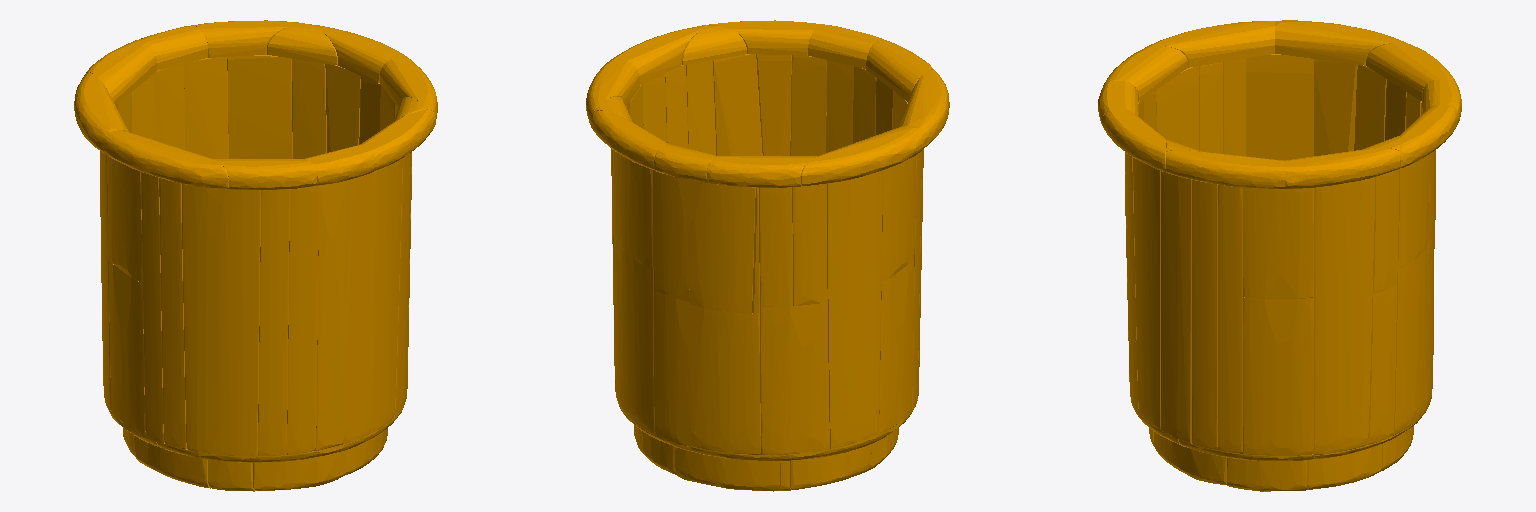
URDF robot description (065-b_cups):
<?xml version="1.0" encoding="UTF-8"?>
<robot name="065-b_cups">
	<link name="base">
		<collision>
			<geometry>
				<mesh filename="..\vhacd\065-b_cups_vhacd.obj" scale="1.0 1.0 1.0"/>
			</geometry>
			<origin xyz="0 0 0"/>
			<contact_coefficients mu="0.24" />
		</collision>
		<visual>
			<geometry>
				<mesh filename="..\vhacd\065-b_cups_vhacd.obj" scale="1.0 1.0 1.0"/>
			</geometry>
			<origin xyz="0 0 0"/>
		</visual>
		<inertial>
			<mass value="0"/>
			<inertia ixx="0.0" ixy="-0.0" ixz="0.0" iyy="0.0" iyz="0.0" izz="0.0" />
			<origin xyz="-0.026747550306813965 -0.053654315640358295 0.029941420120830235"/>
		</inertial>
	</link>
</robot>

--- Facts derived from the render (not from the file) ---
Views: 3 orthographic renders of the robot side by side, from view 1: azimuth 30°, elevation 25°; view 2: azimuth 150°, elevation 25°; view 3: azimuth 270°, elevation 25°.
Model 065-b_cups with 1 links and 0 joints (none), rooted at base, posed all joints at 0.
Visible links, largest first — view 1: base; view 2: base; view 3: base.
Link boxes in pixels (left/top/right/bottom): base: left=74, top=20, right=437, bottom=491; base: left=586, top=20, right=949, bottom=491; base: left=1098, top=20, right=1461, bottom=491.
Bounding box of the posed robot: 0.0612 × 0.0612 × 0.0641 m (x, y, z).
Meshes: 1 distinct files referenced, 1 mesh visuals loaded (1 OBJ).